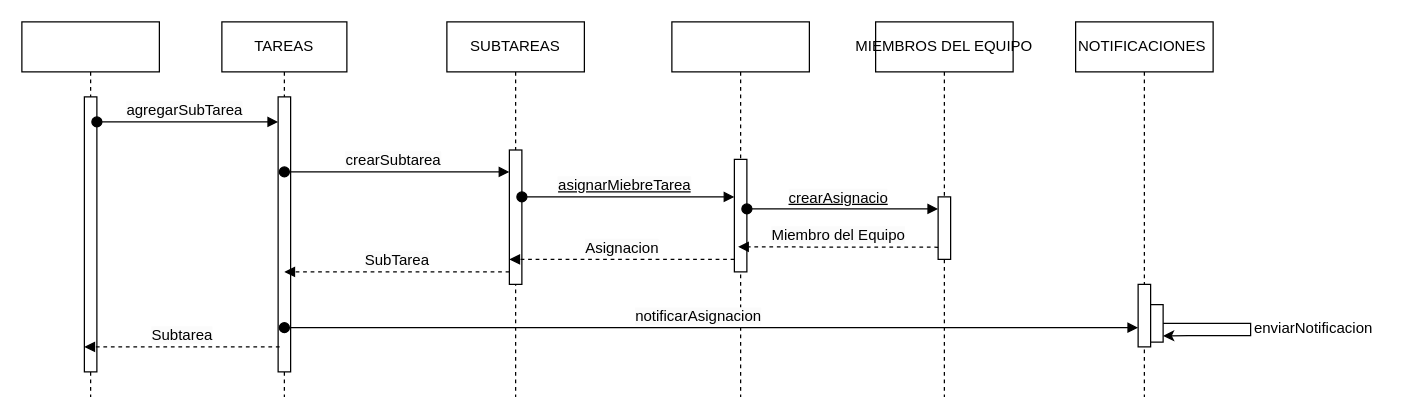
The diagram is 1410 pixels wide and 419 high, and some of its shapes have lost their labels. Here are the shapes that lost their labels. From the top down, the box of each, then its label:
(21, 21, 159, 397): PROJECT ADMIN
(671, 21, 809, 397): ASIGNACIONES
